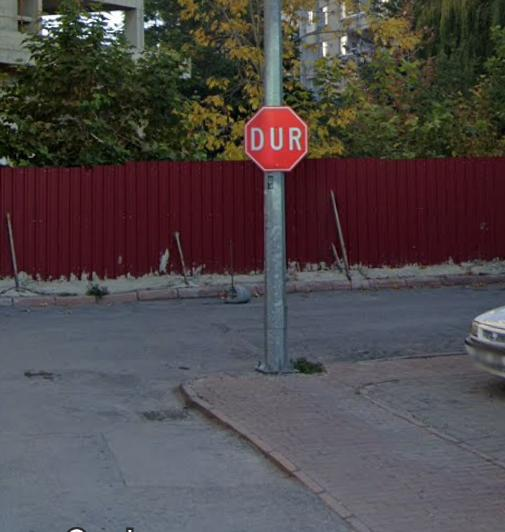stop: (244, 105, 309, 170)
